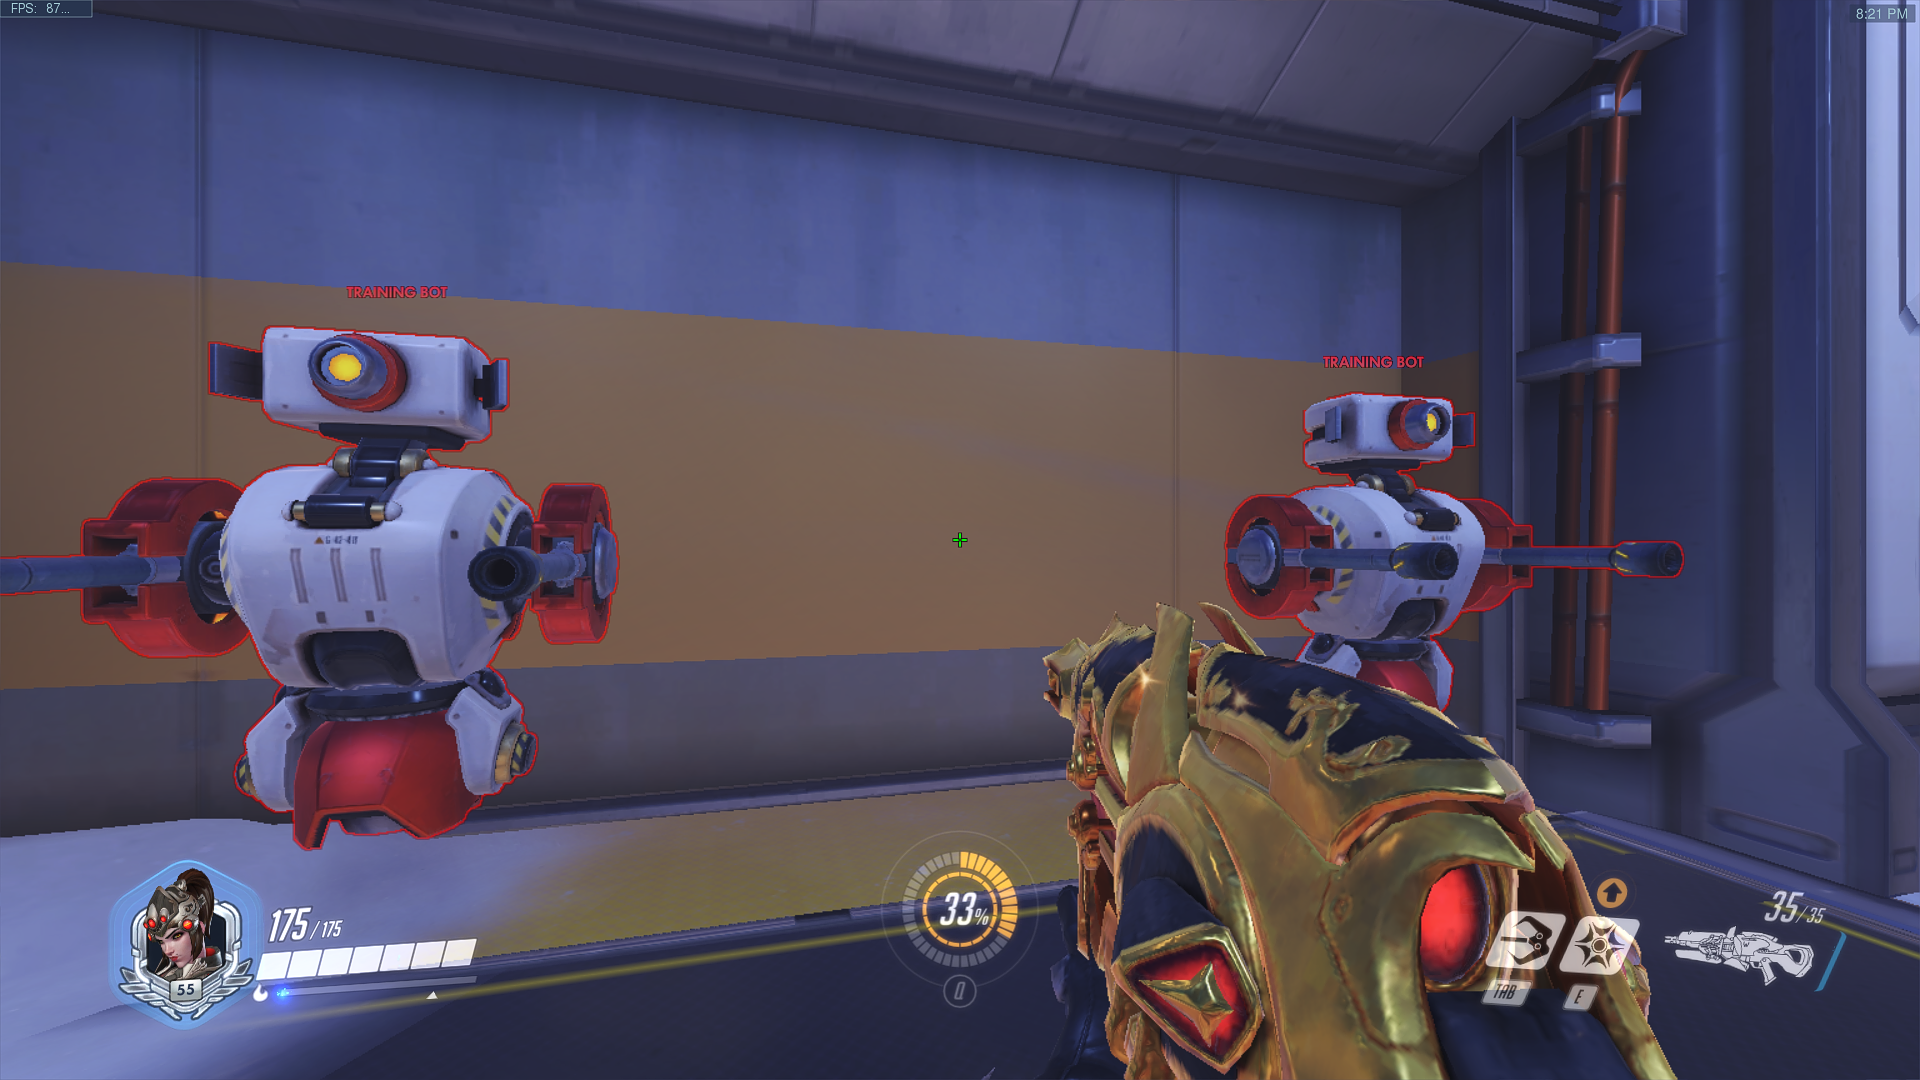head: (252, 325, 488, 445), (1301, 395, 1456, 469)
